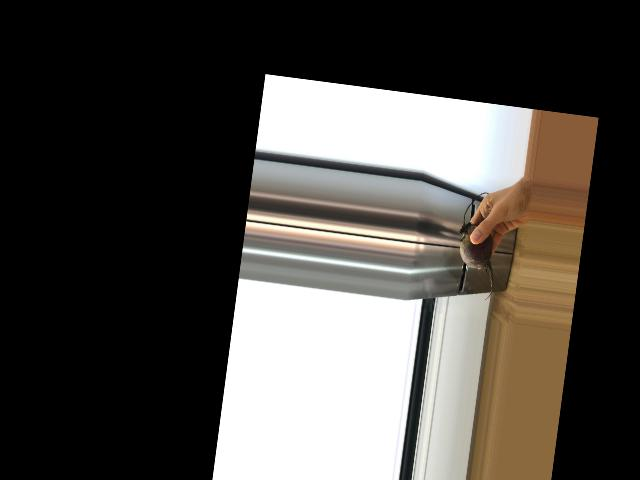beet: (451, 190, 505, 301)
